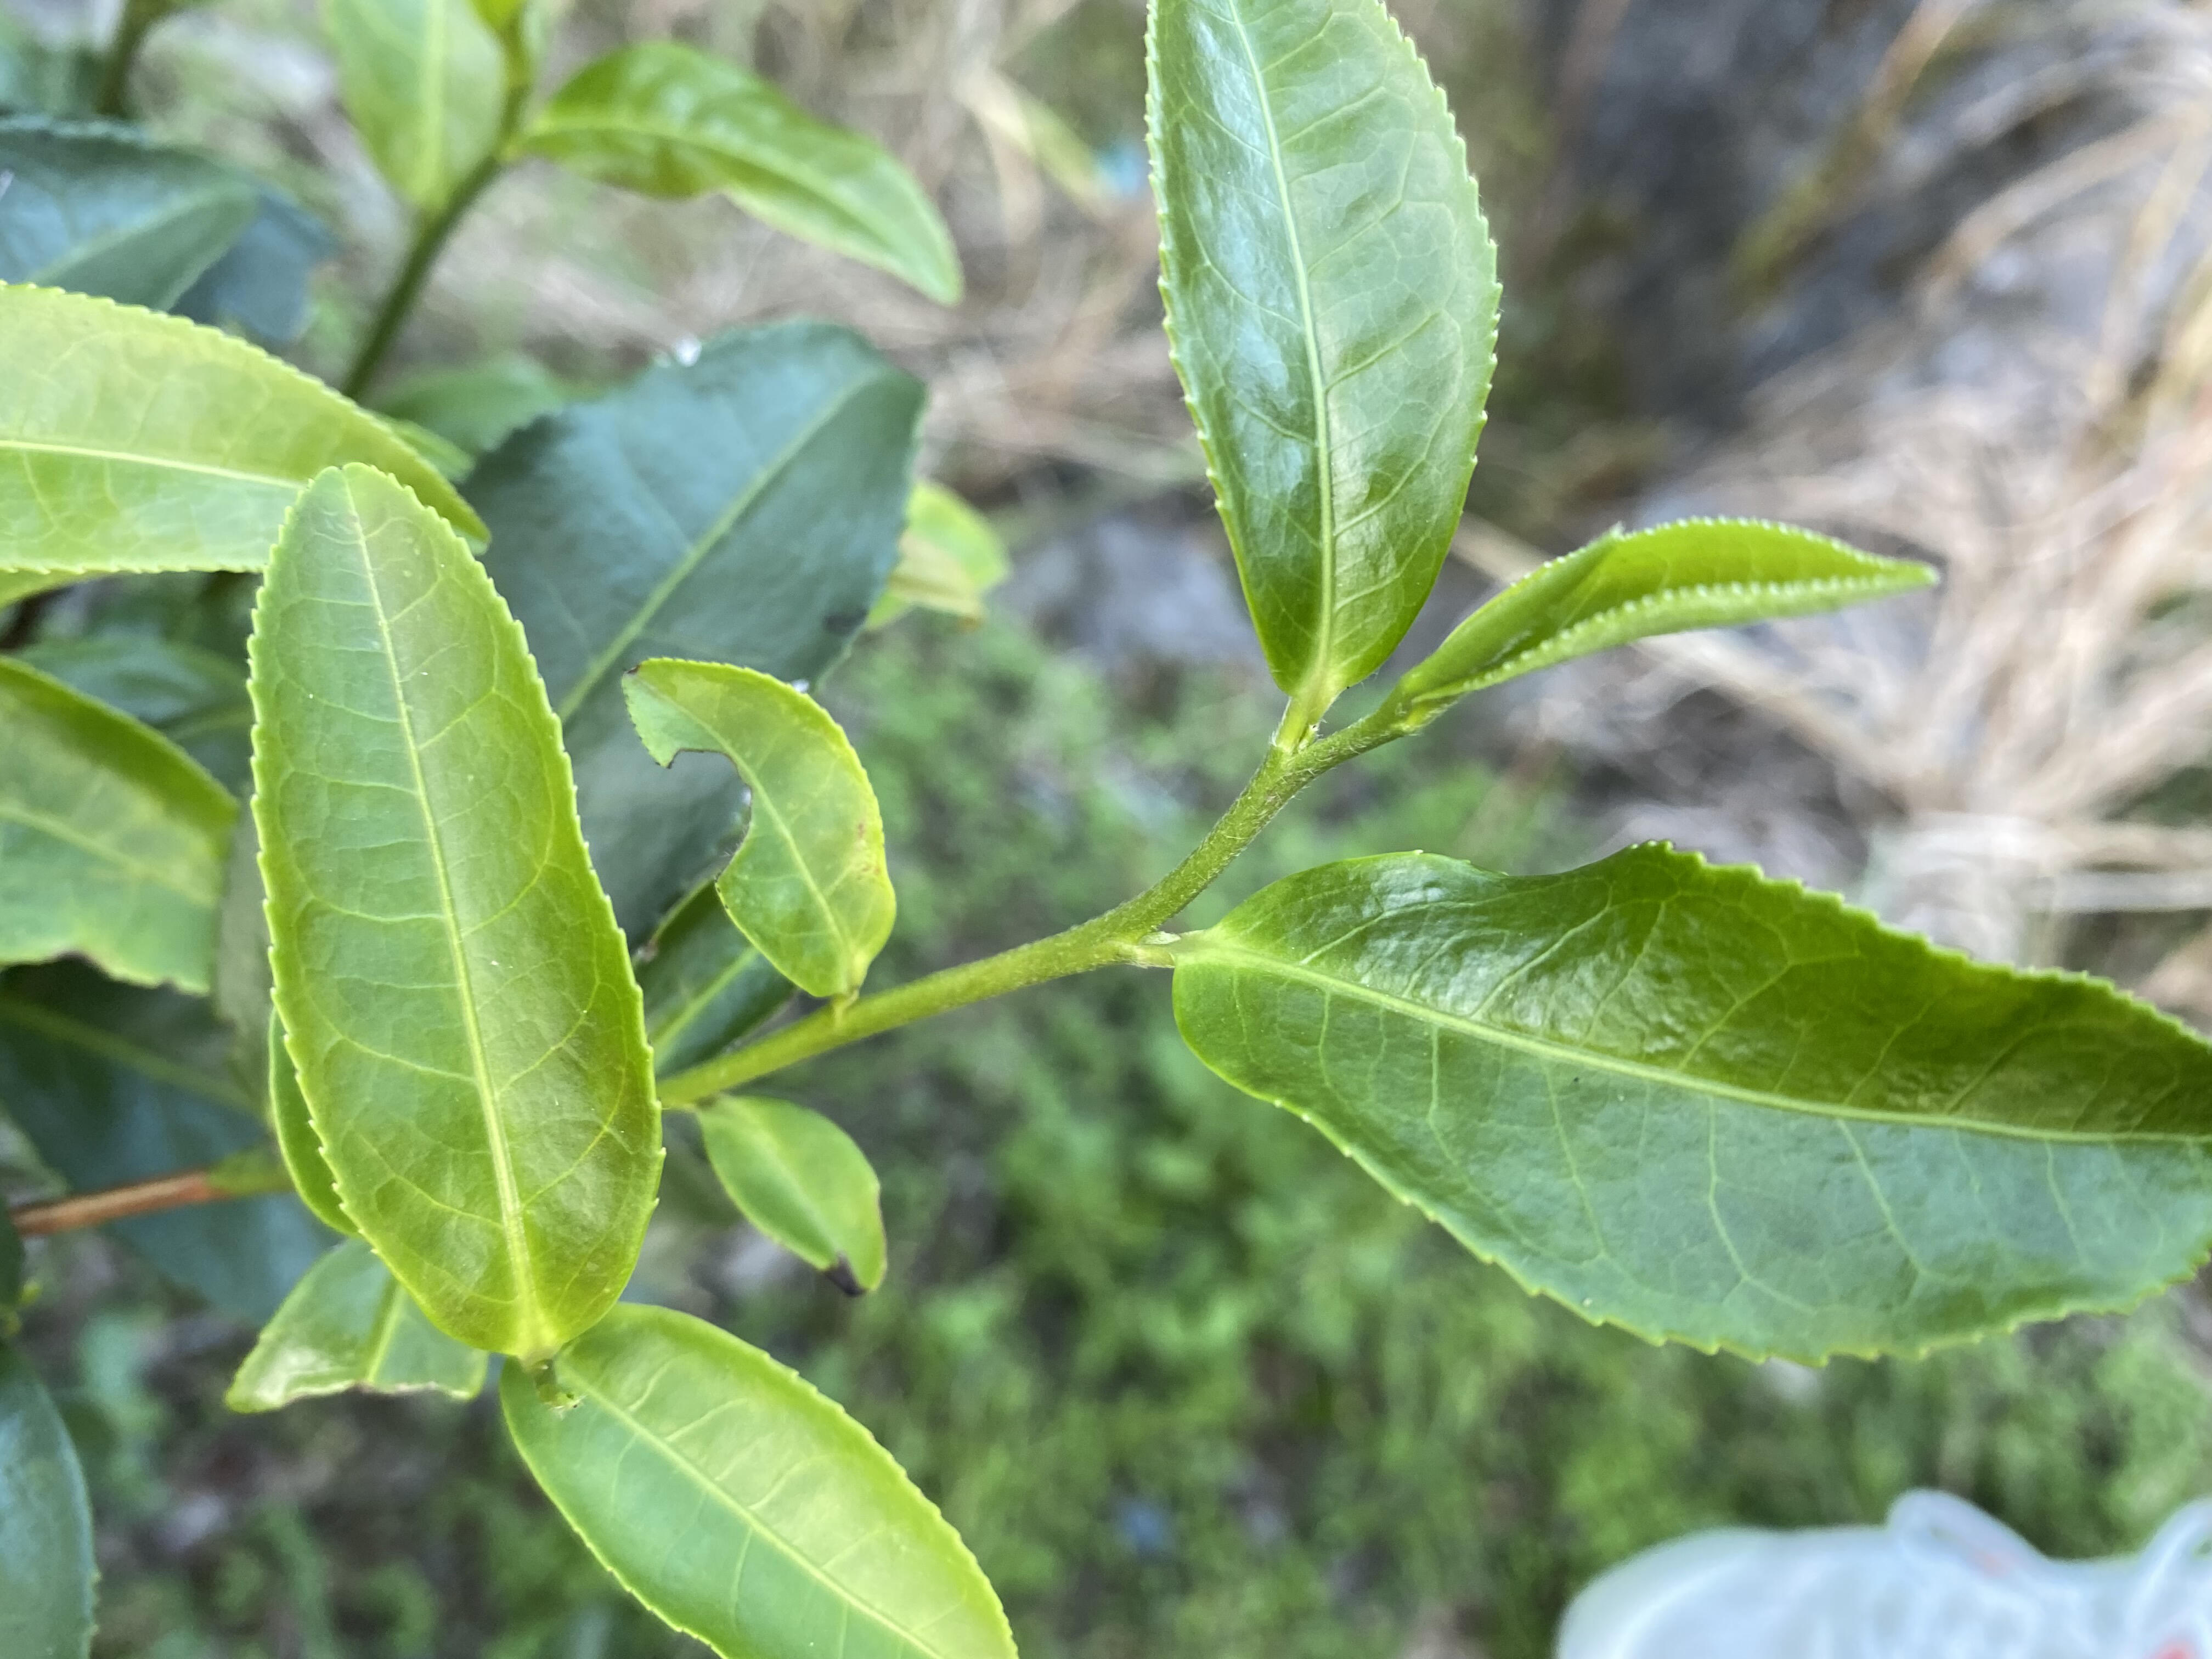chihuo_high: (615, 657, 899, 1002), (223, 1232, 493, 1410)
healthy: (1167, 838, 2209, 1380), (244, 457, 665, 1363), (1134, 2, 1503, 711)
tanju_low: (695, 1089, 894, 1295)
